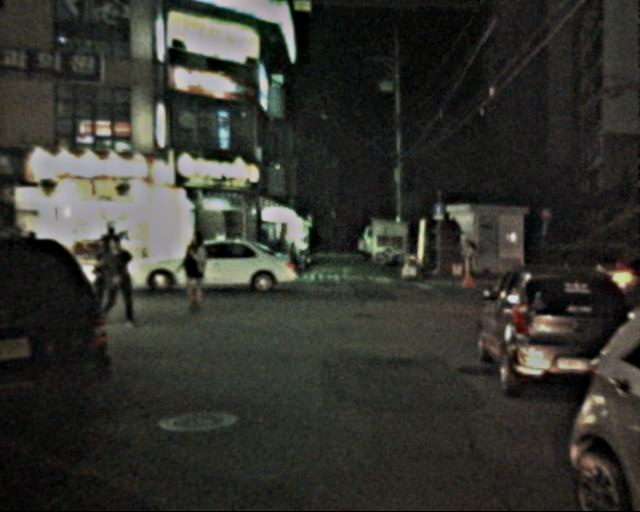person: (101, 234, 140, 326), (177, 226, 213, 316), (455, 231, 476, 288)
